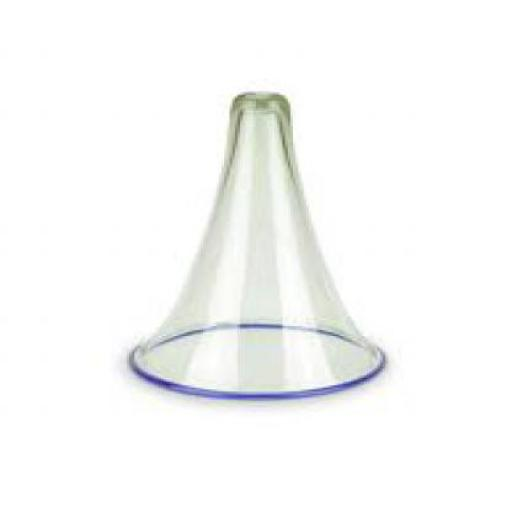glass: (132, 91, 388, 399)
